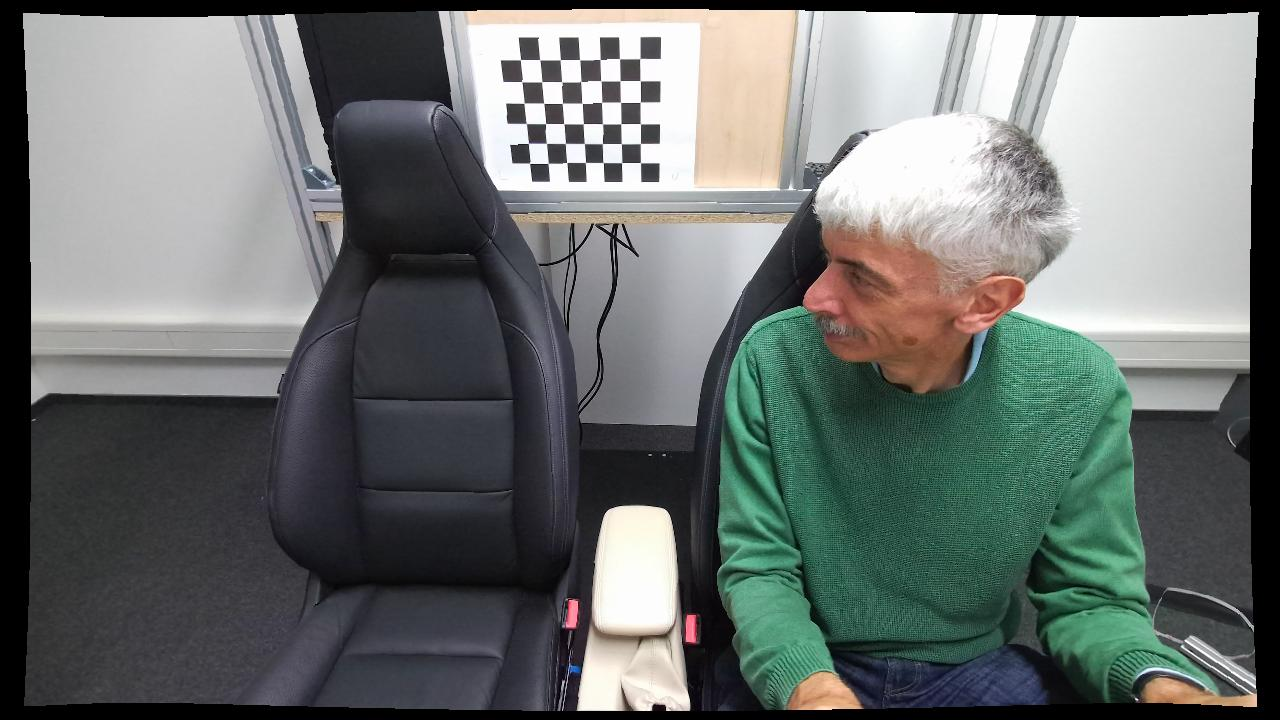Distracted: (716, 114, 1188, 715)
